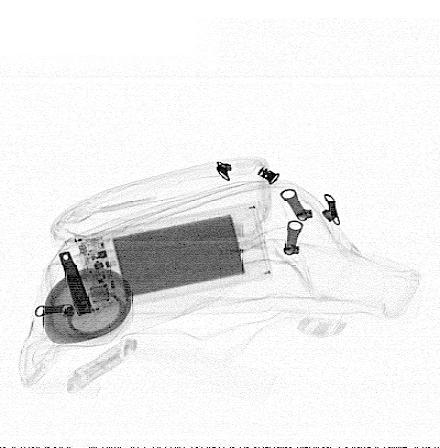Powerbank: (72, 201, 273, 315)
